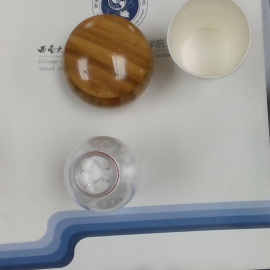bottle: (65, 136, 141, 210)
chess: (61, 14, 154, 108)
cup: (167, 1, 253, 77)
